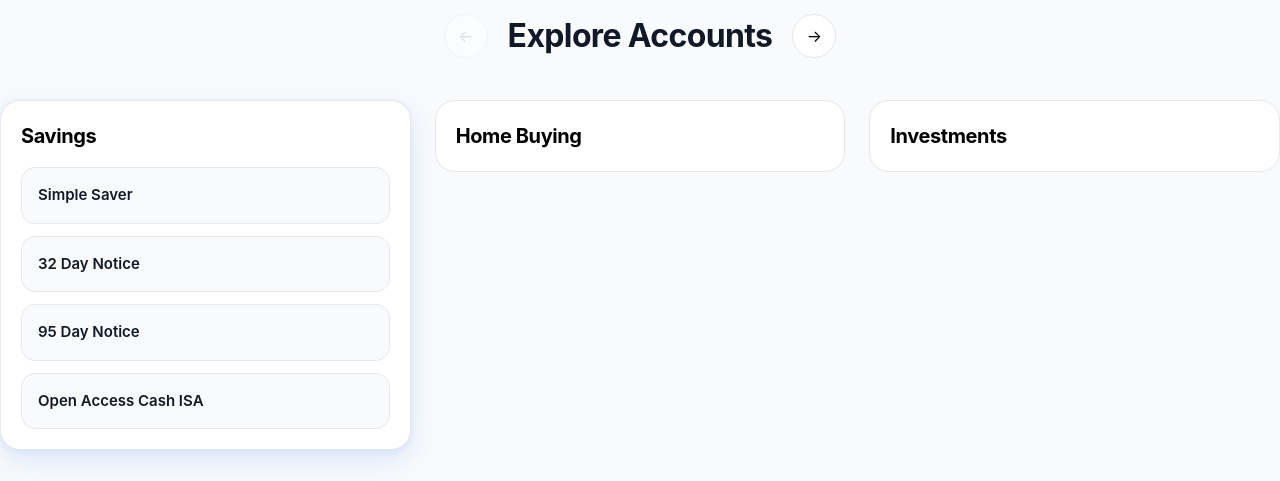
AccountsExplorer › navigates to the next category when the next button is clicked
Click the button named "Next category" at [814, 36], box [792,14,836,58]
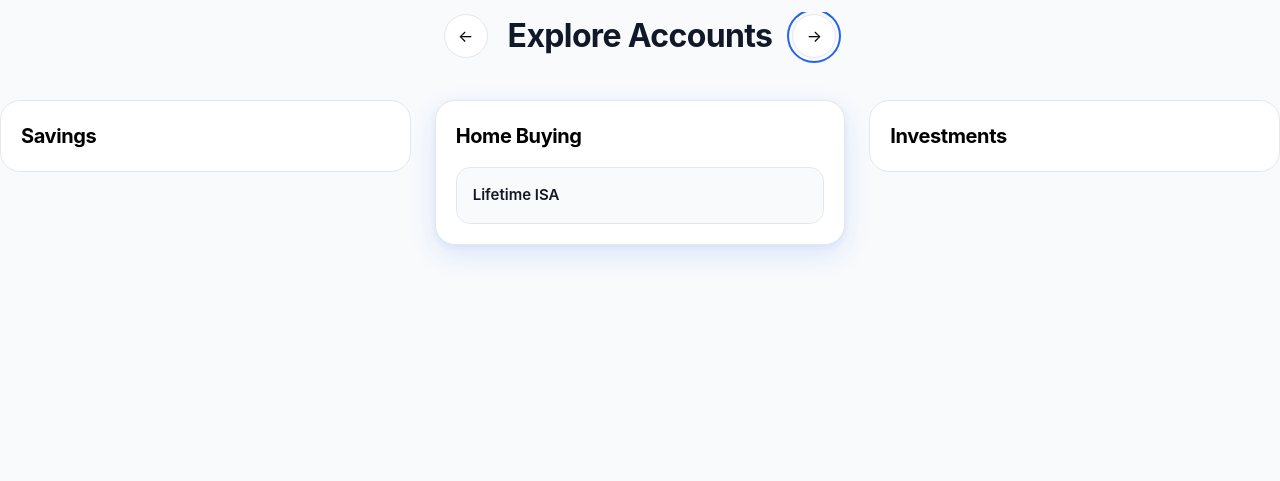
Check: the heading "Home Buying" is shown, box [456,121,582,151]
Check: the heading "Lifetime ISA" is shown, box [473,185,560,204]
